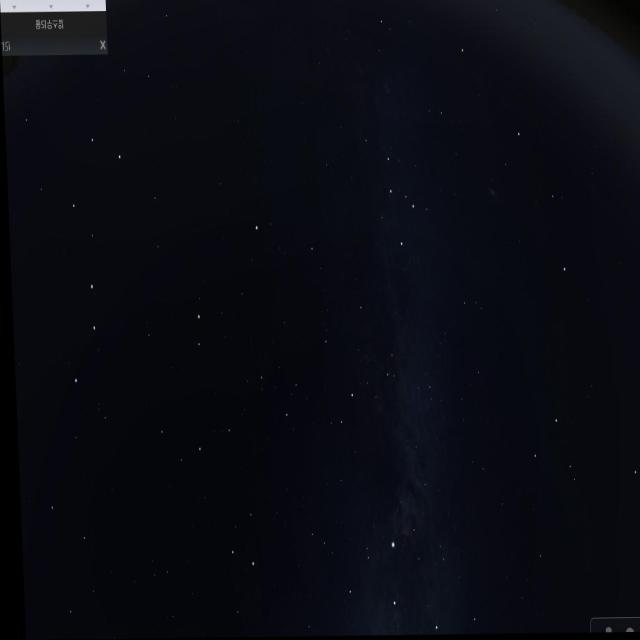cassiopeia: (346, 121, 442, 261)
cygnus: (331, 503, 437, 637)
ursa_major: (55, 124, 130, 403)
